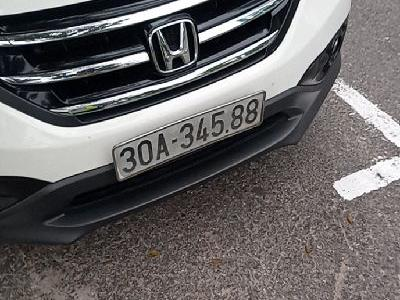lisence: (112, 90, 267, 182)
